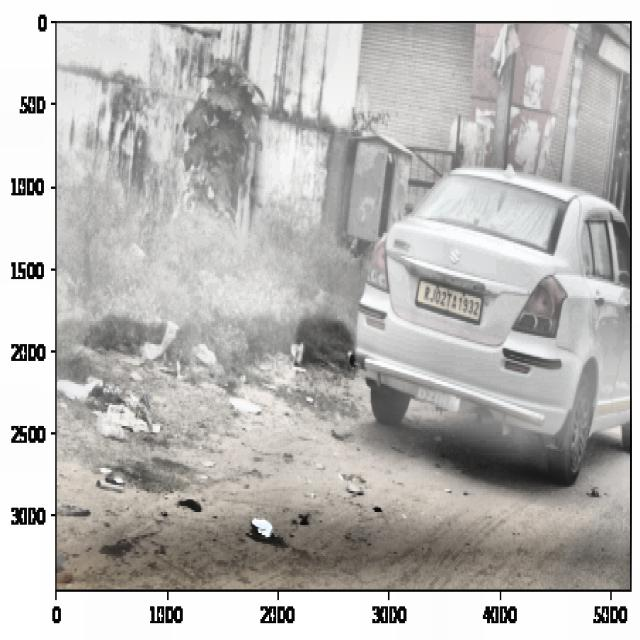license_plate: (418, 277, 486, 325)
